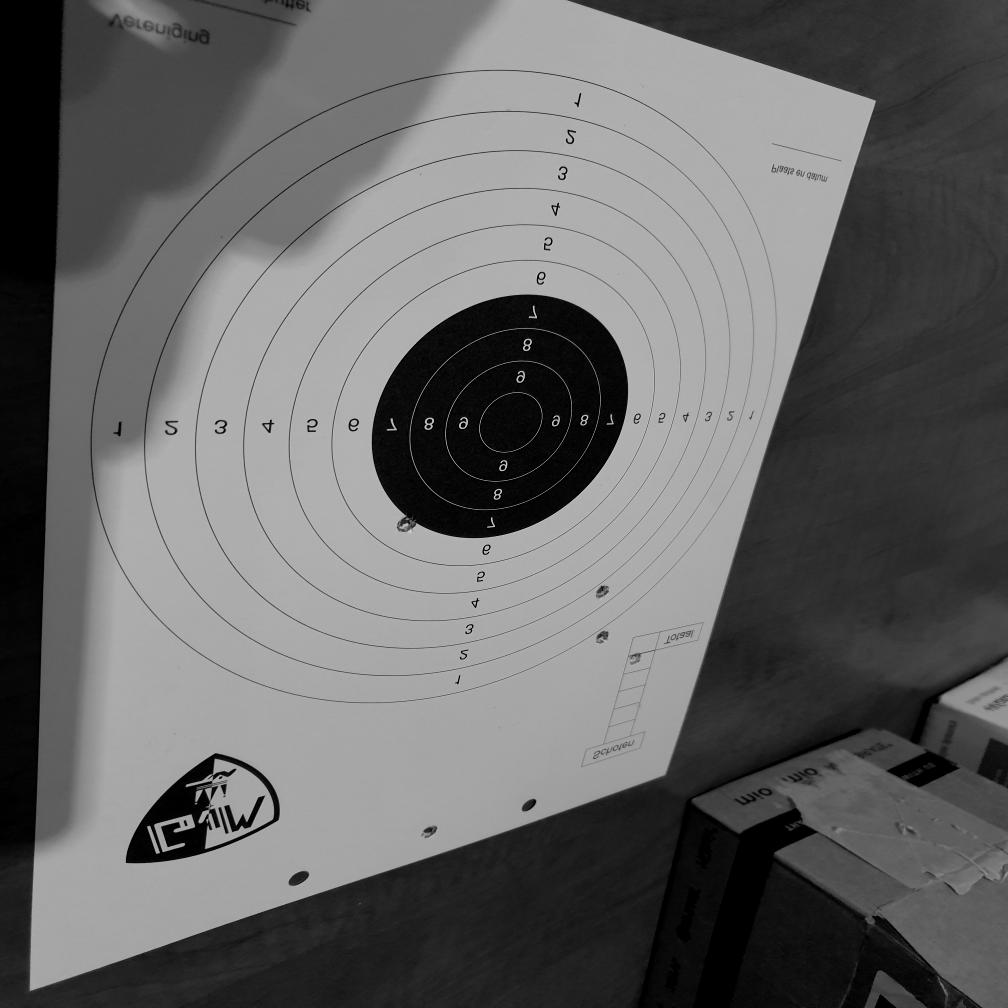0: (594, 630, 612, 646), (419, 825, 440, 838), (627, 652, 643, 666)
3: (594, 584, 610, 600)
7: (395, 513, 420, 534)
Target: (93, 71, 782, 705)
black_contour: (372, 294, 629, 540)
